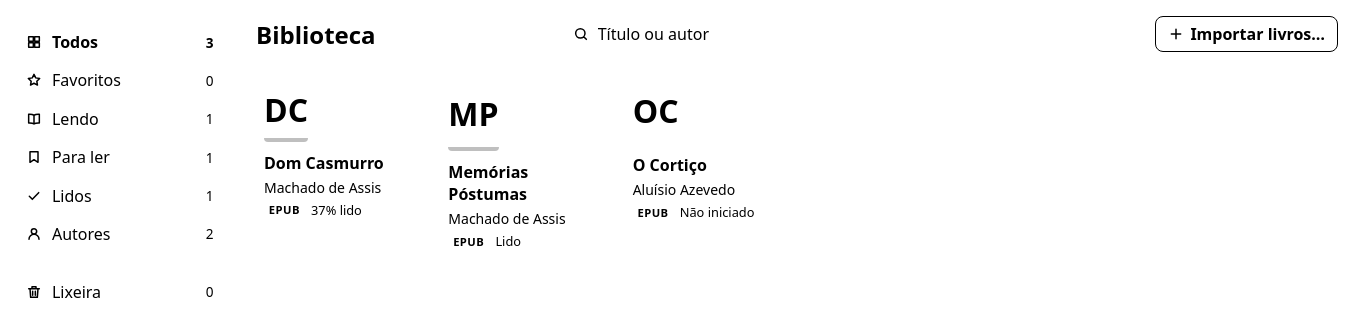
Test: Biblioteca › busca e filtros › barra lateral: estantes com contagem, a atual com aria-current
The image size is (1355, 315).
Expected: the button "Lendo 1" is shown, [16,101,224,137]
Expected: the button "Para ler 1" is shown, [16,139,224,175]
Step 1. Click the button "Lidos 1" → (120, 196), box [16,178,224,214]
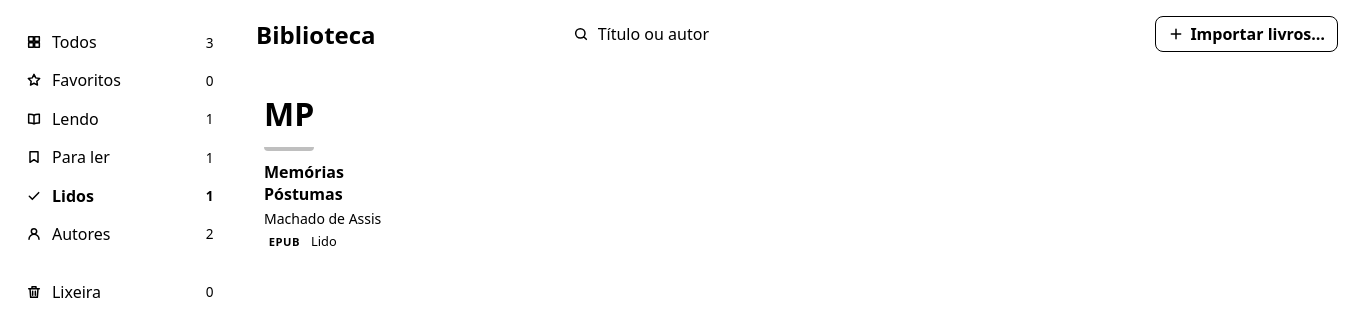
Expected: the button "MP Memórias Póstumas Machado de Assis EPUB Lido" is shown, [256,68,416,258]
Now the button "Lidos 1" is marked as current, box [16,178,224,214]
Now the button "Todos 3" does not have attribute aria-current, box [16,24,224,60]
Step 2. Click the button "Para ler 1" → (120, 157), box [16,139,224,175]
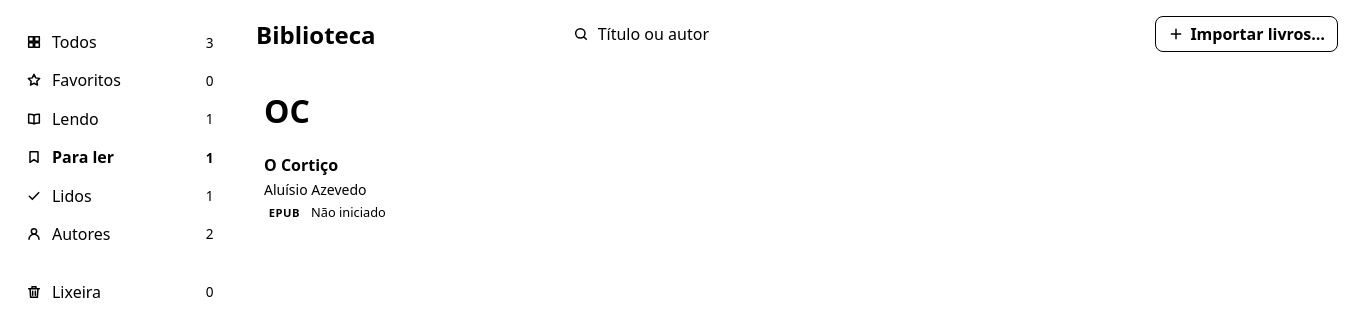
Now the button "OC O Cortiço Aluísio Azevedo EPUB Não iniciado" is shown, box [256,68,416,229]
